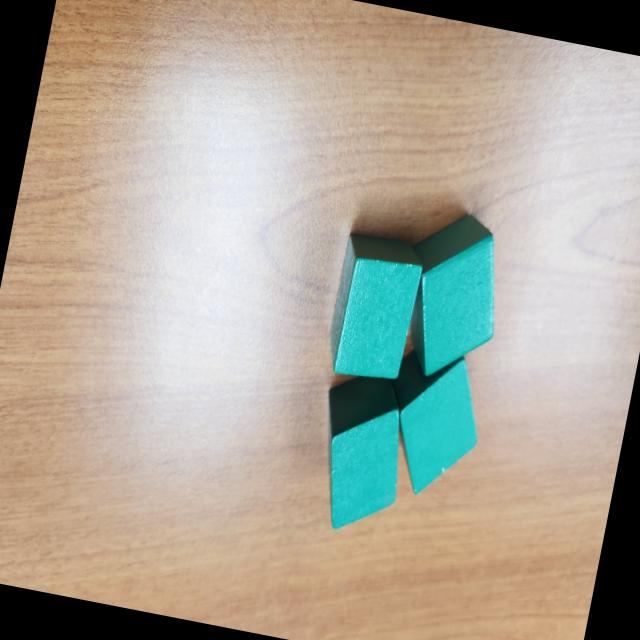green: (388, 204, 518, 390), (372, 342, 493, 506), (302, 368, 418, 539), (323, 228, 429, 388)
